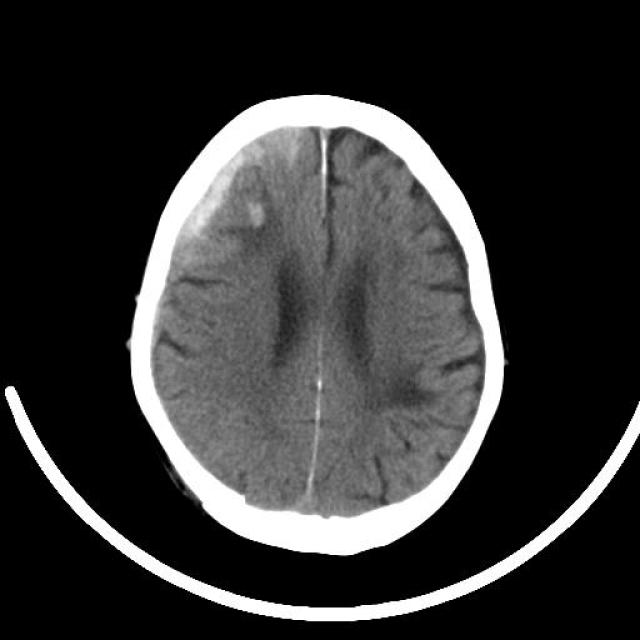Intraparenchymal: (228, 190, 292, 242)
Subdural: (171, 112, 325, 252)
